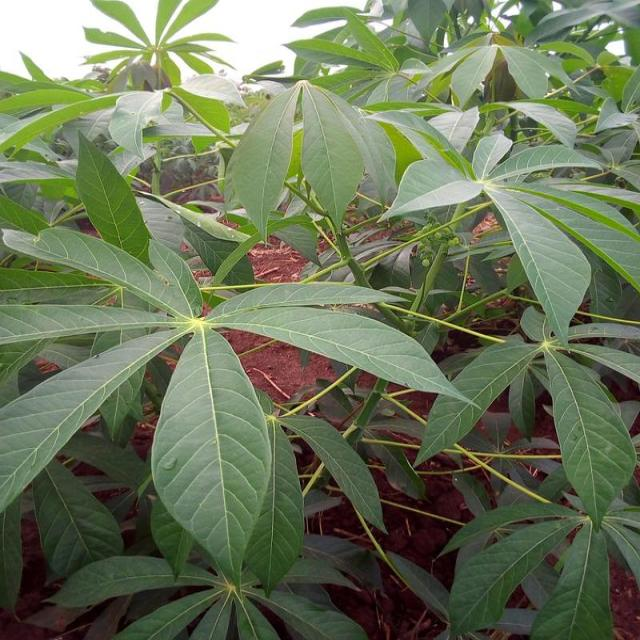cassava leaf: (150, 323, 272, 587)
